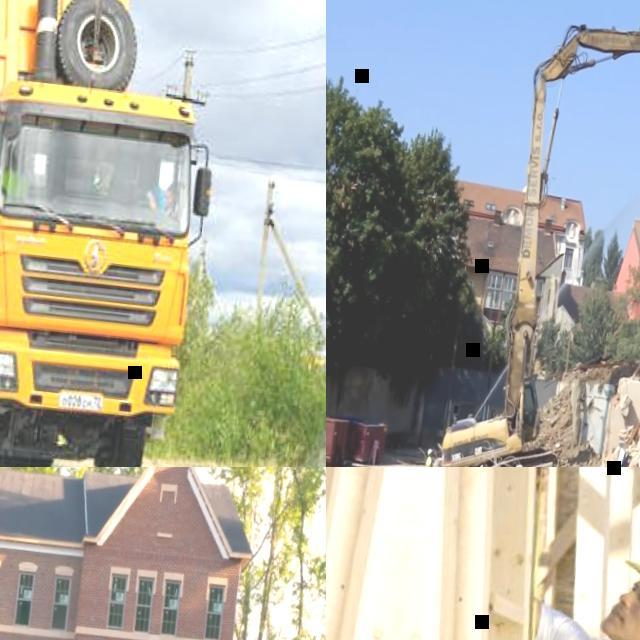helmet: (612, 541, 640, 640), (425, 448, 431, 457)
vest: (0, 166, 31, 202), (148, 184, 174, 213), (421, 456, 429, 467)
